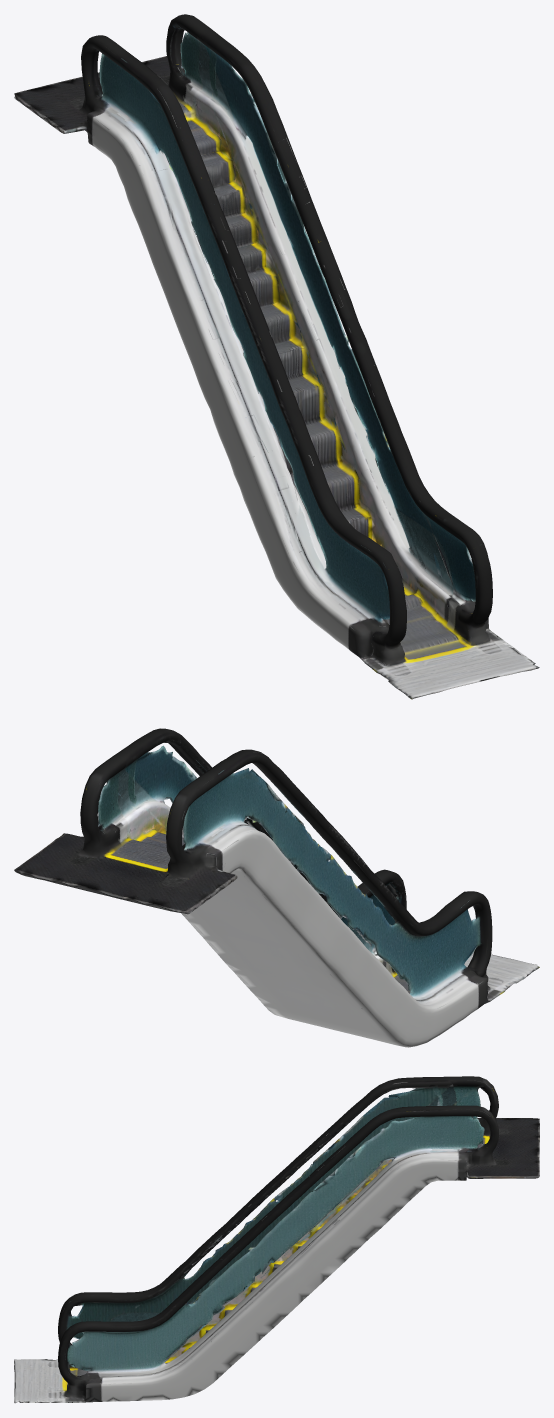
The model's file is Meshy_AI_Escalator_Journey_0102213411_texture.fbx.
3 views of the same model, one above another, from view 1: azimuth 30°, elevation 25°; view 2: azimuth 150°, elevation 25°; view 3: azimuth 270°, elevation 25° (orthographic). The views are drawn at different scales.
Visible parts, largest first — view 1: Mesh0; view 2: Mesh0; view 3: Mesh0.
Part boxes in pixels (x1=…): Mesh0: x1=14, y1=14, x2=539, y2=699; Mesh0: x1=14, y1=728, x2=539, y2=1047; Mesh0: x1=14, y1=1076, x2=539, y2=1403.
Size of the model in its own units: 50.98 by 116 by 191.
1 material, 1 textured.
